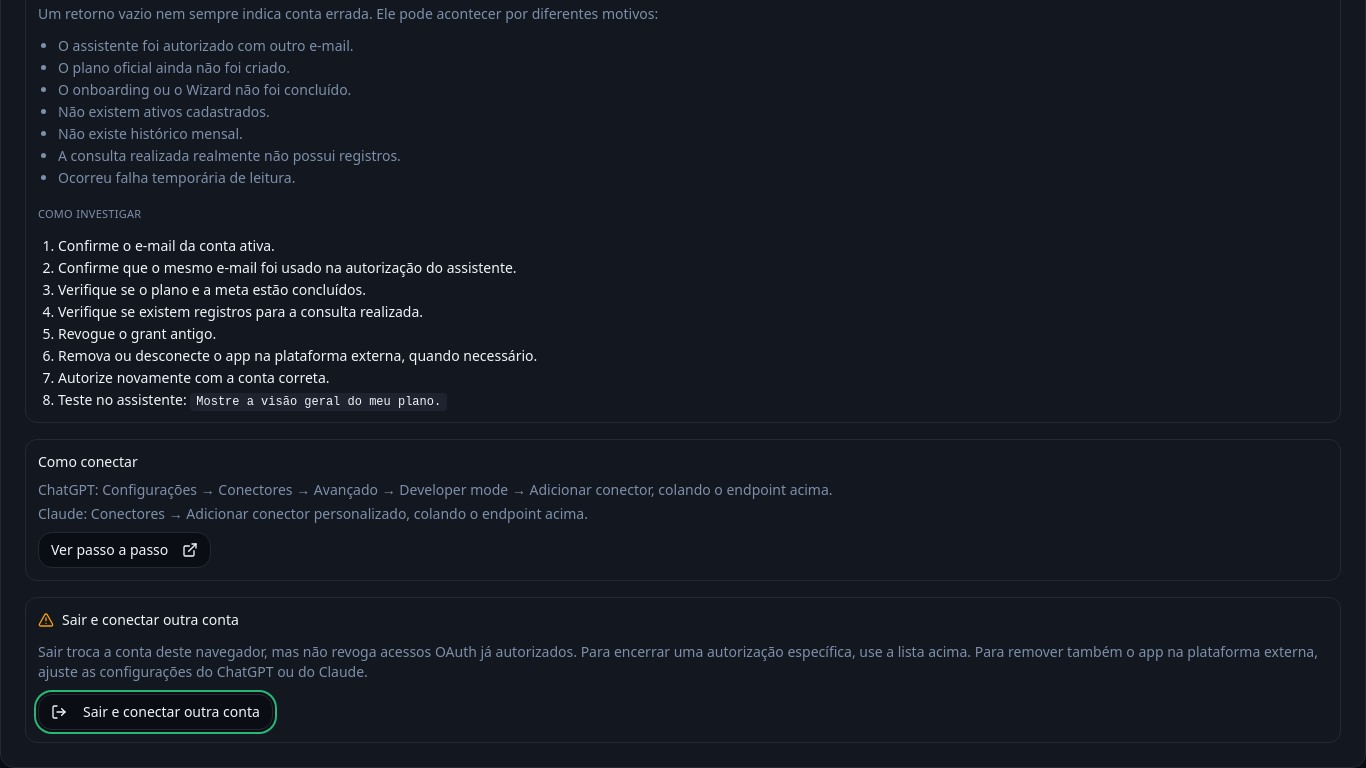
Test: McpConnectionPanel — foco após fechar AlertDialog (Radix padrão) › retorna o foco ao botão que abriu o diálogo de troca de conta
(page scrolled)
Click the button "Sair e conectar outra conta": (155, 712) [38,694,273,730]
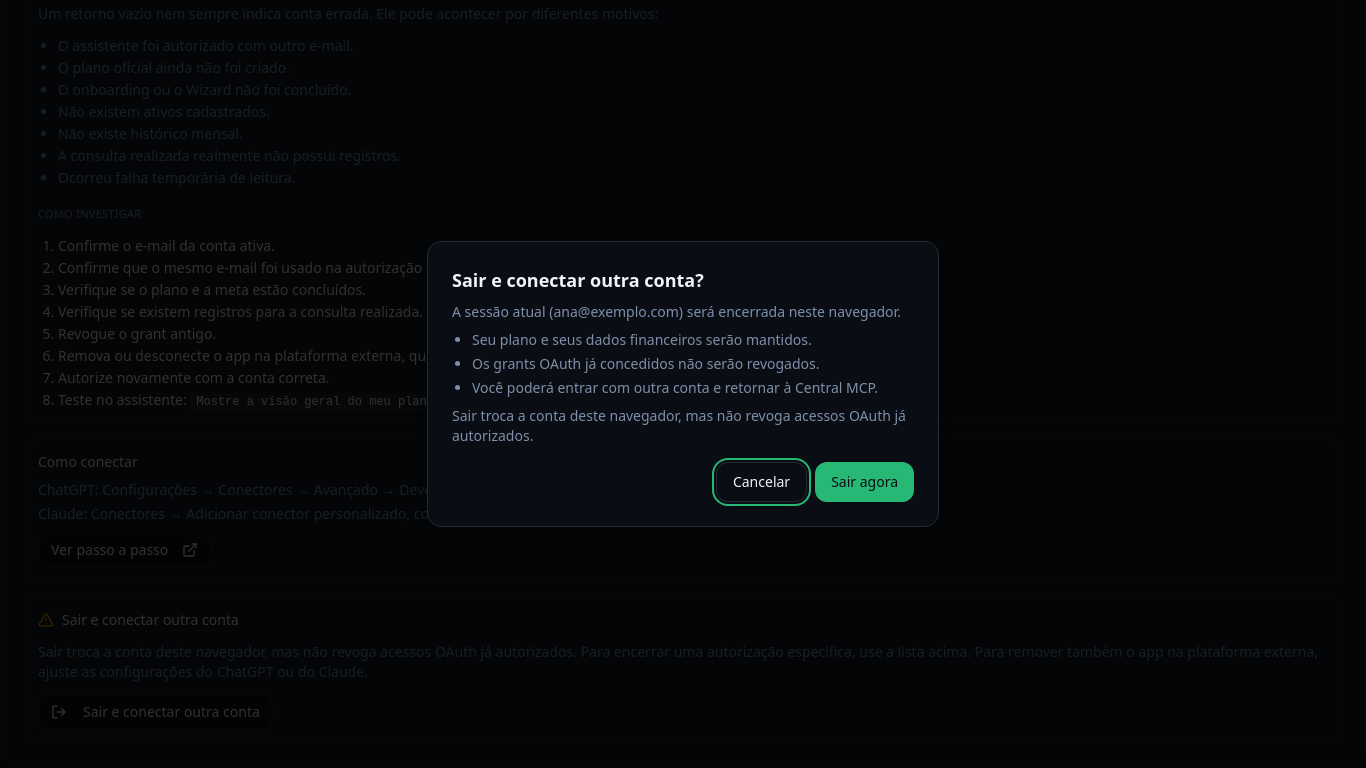
Click the button "Cancelar": (762, 482) [716,462,807,502]
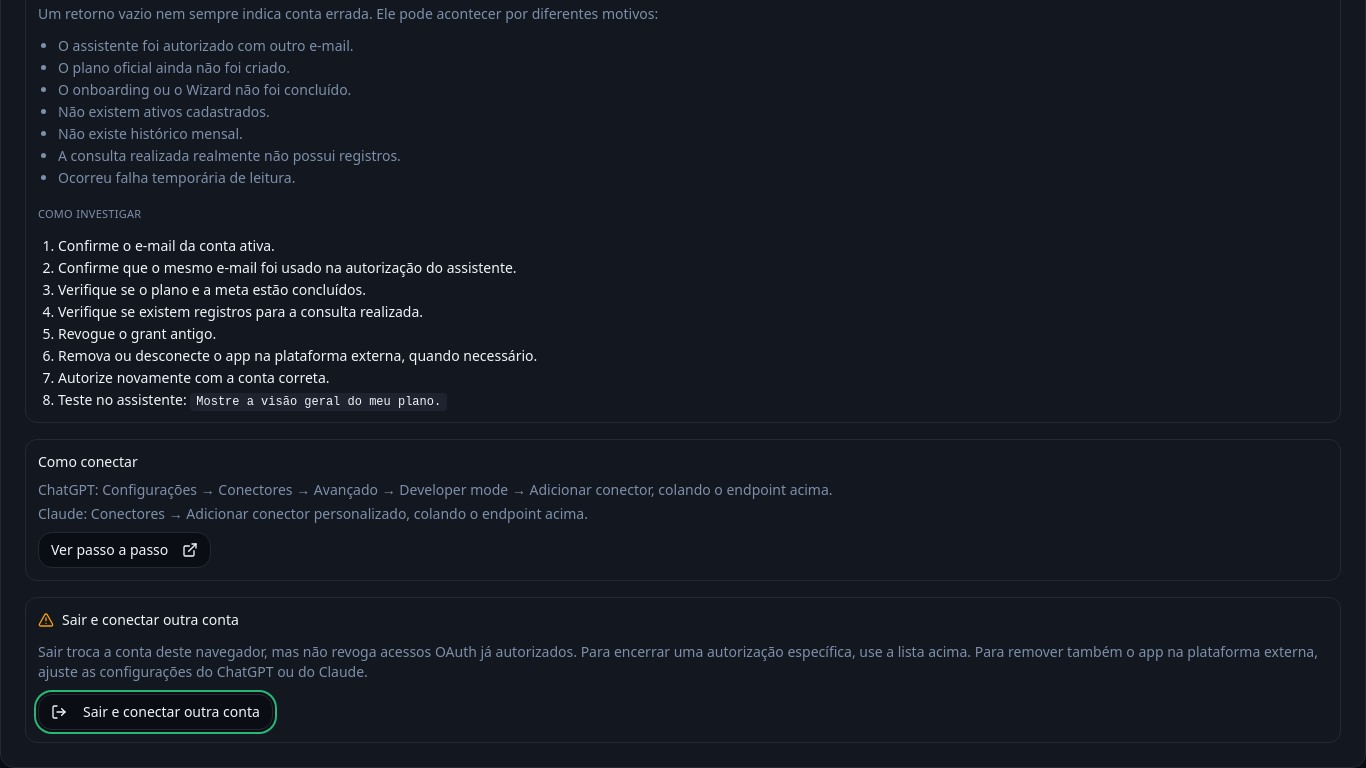
Expected: the dialog is gone
